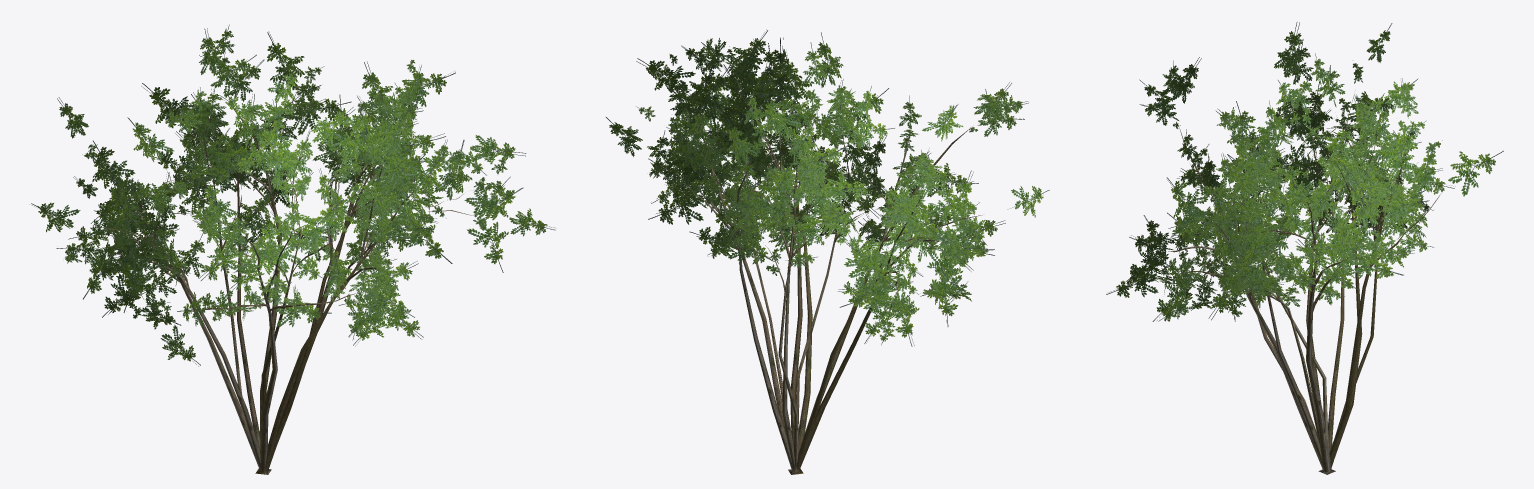
The model's file is tree_bush_b_lod0.glb.
3 views of the same model, side by side, from view 1: azimuth 30°, elevation 25°; view 2: azimuth 150°, elevation 25°; view 3: azimuth 270°, elevation 25° (orthographic). The views are drawn at different scales.
Visible parts, largest first — view 1: bush_b; view 2: bush_b; view 3: bush_b.
Part boxes in pixels (x1,y1,x2,y2): bush_b: (31, 24, 555, 474); bush_b: (606, 29, 1049, 474); bush_b: (1106, 22, 1503, 474).
Size of the model in its own units: 1.51 by 1.3 by 1.23.
2 materials, 2 textured.
